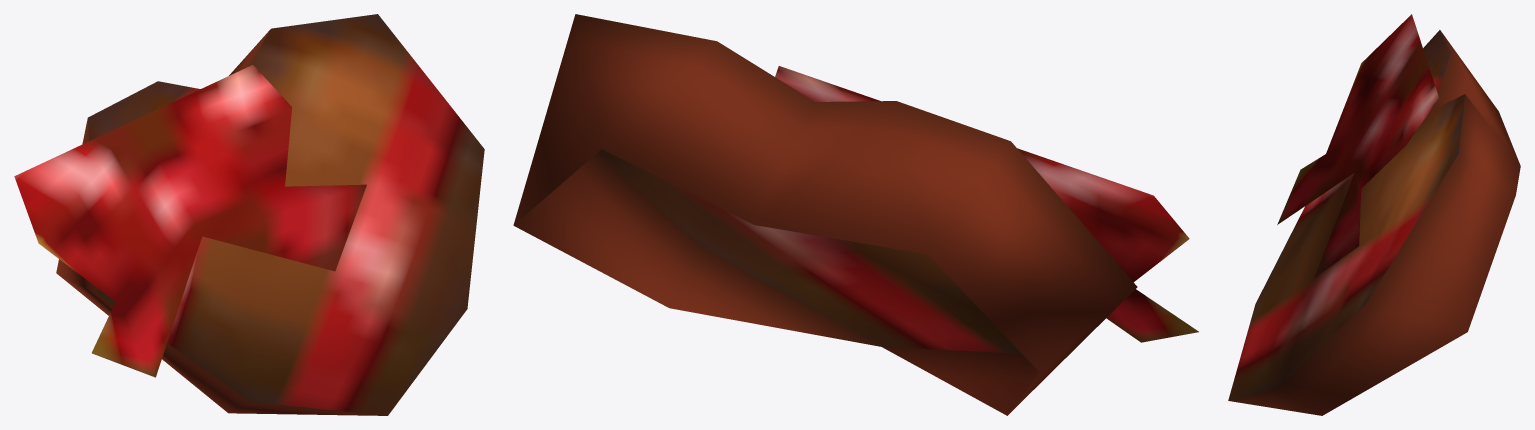
File: fg_chocolate_out.dae
3 renders of one model, left to right at view 1: azimuth 30°, elevation 25°; view 2: azimuth 150°, elevation 25°; view 3: azimuth 270°, elevation 25°, orthographic. The views are drawn at different scales.
Visible parts, largest first — view 1: fg_chocolate_out; view 2: fg_chocolate_out; view 3: fg_chocolate_out.
Boxes of the visible parts, <box> form: fg_chocolate_out: <box>14,14,484,415</box>; fg_chocolate_out: <box>513,14,1198,415</box>; fg_chocolate_out: <box>1228,14,1520,415</box>.
Size of the model in its own units: 15.57 by 10.02 by 8.66.
1 material, 1 textured.
